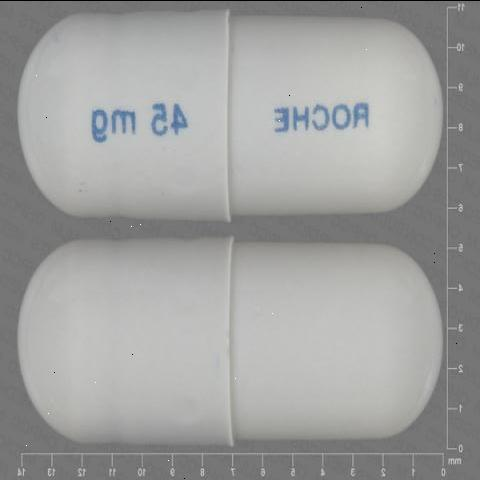Pill: (9, 5, 456, 232), (5, 231, 466, 449)
